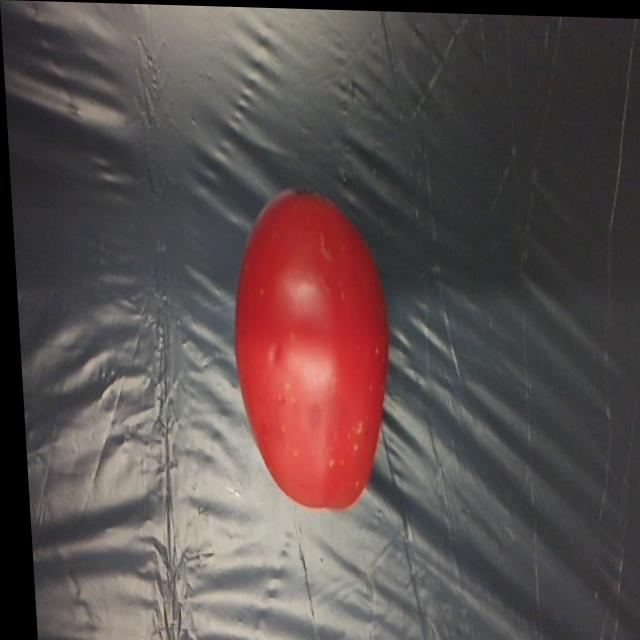kirmizi: (207, 182, 394, 525)
